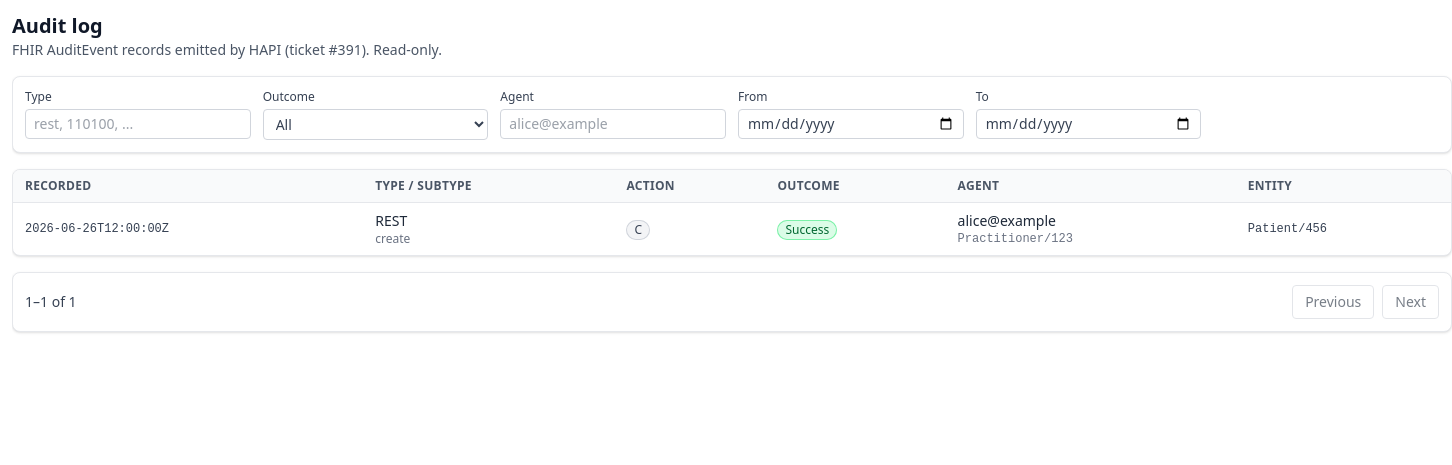
Scenario: AuditView (ticket #407) › row click expands to show the full JSON detail
The width and height of the screenshot is (1452, 465).
Click the row with test id "audit-row-xyz". click: (97, 229)
box: [13, 202, 1451, 255]
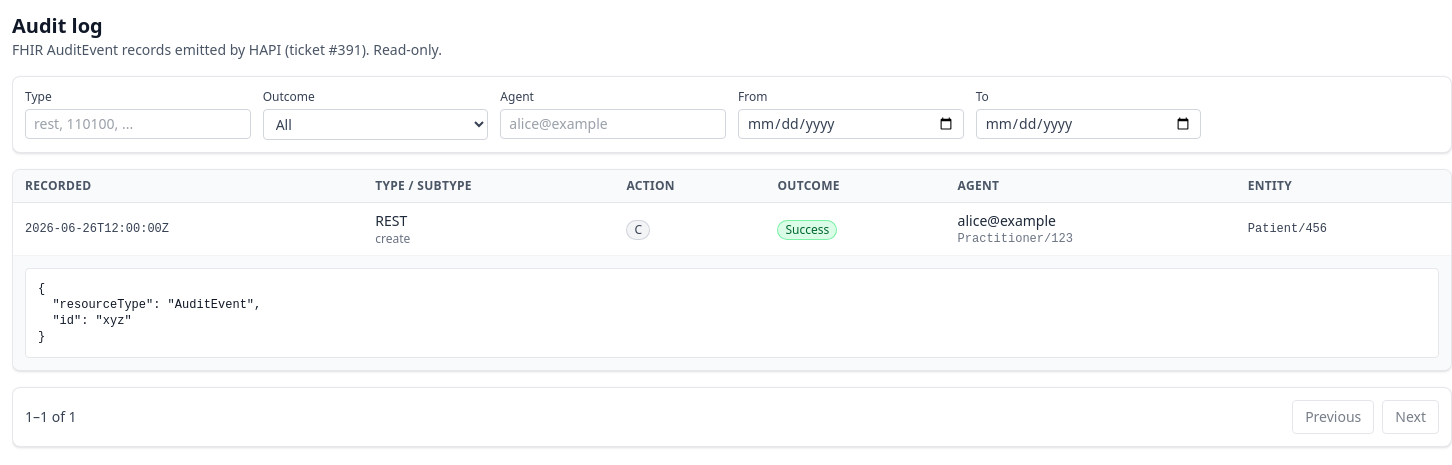
Expected: the text "{ \"resourceType\": \"AuditEvent\", \"id\": \"xyz\" }" is shown, [25, 268, 1439, 358]
Expected: the text with test id "audit-row-xyz-json" shows "\"resourceType\": \"AuditEvent\"", [38, 282, 261, 344]
